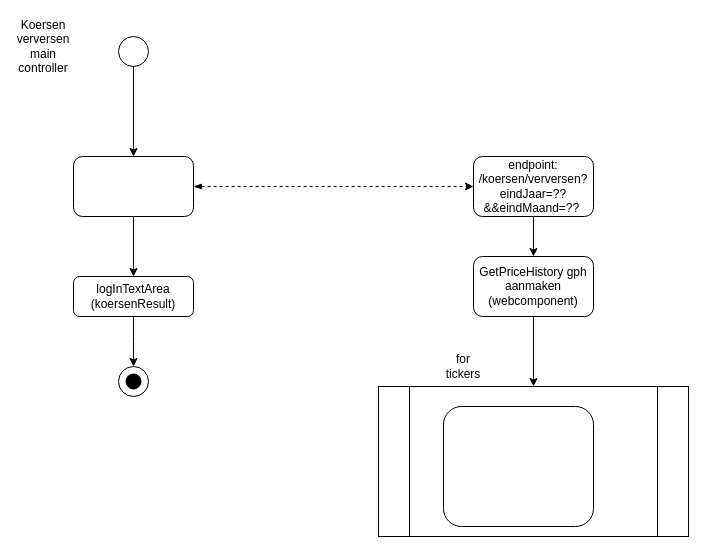
This 706x554 diagram has some shape labels left out. The centre of each missing label's shape, as x and y in pixels:
"gph.updratePriceHistory( ticker1, startYear, 1, endYear, endMonth, localLogging)" belongs at (518,466).
"roep microservice aan localhost:8082/koersen/verversen" belongs at (133,186).
